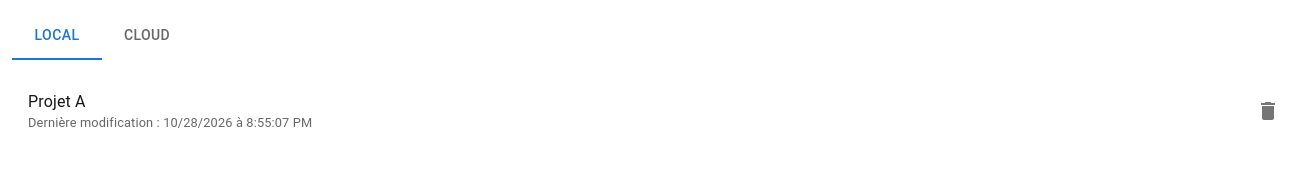
Test: ProjectsList › propose de se connecter dans l'onglet Cloud sans compte
Expected: the text "Projet A" is shown, [28,92,86,111]
Click the tab "Cloud".
click(147, 36)  # box [102,12,192,60]
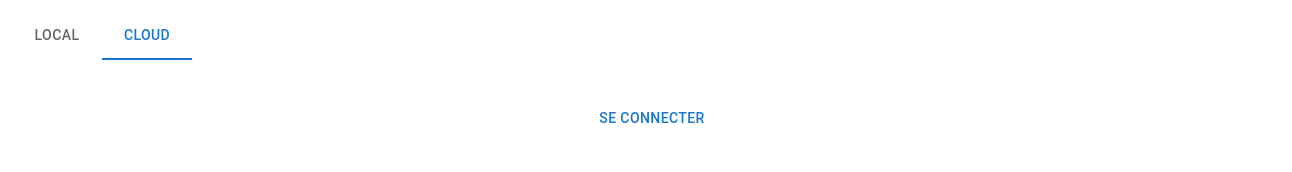
Result: the button "Se connecter" is shown at [591,100,713,136]
